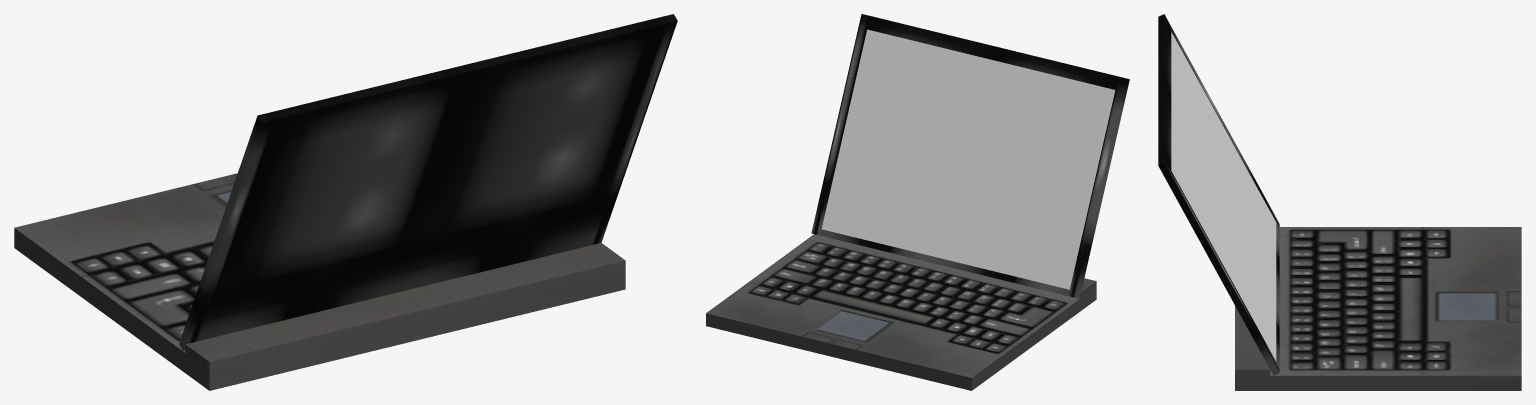
Rendered from laptop 1.fbx.
3 views of the same model, side by side, from view 1: azimuth 30°, elevation 25°; view 2: azimuth 150°, elevation 25°; view 3: azimuth 270°, elevation 25° (orthographic). The views are drawn at different scales.
Visible parts, largest first — view 1: laptop; view 2: laptopScreen, laptop; view 3: laptop, laptopScreen.
Part boxes in pixels (x1,y1,x2,y2): laptop: (14,14,677,390); laptopScreen: (821,29,1115,289); laptop: (706,14,1129,390); laptop: (1158,14,1521,390); laptopScreen: (1171,32,1276,361).
Bounding box in the file's own units: 43.89 × 31.31 × 45.24.
